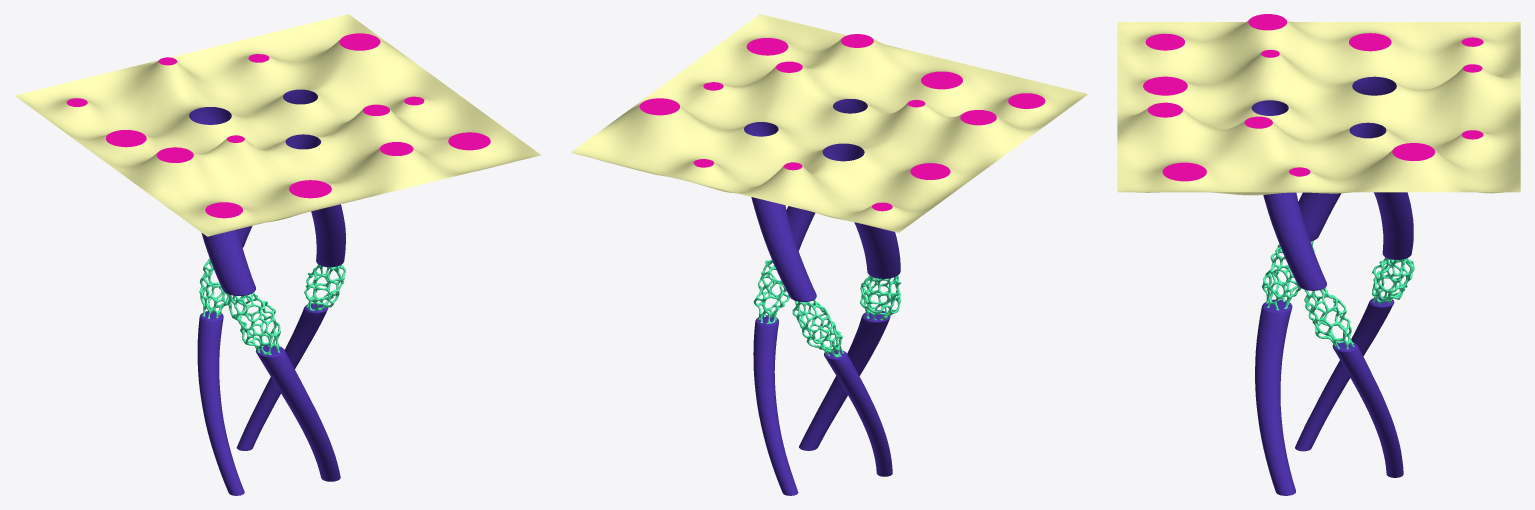
File: Roof_03_columns.fbx
3 renders of one model, left to right at view 1: azimuth 30°, elevation 25°; view 2: azimuth 150°, elevation 25°; view 3: azimuth 270°, elevation 25°, orthographic. The views are drawn at different scales.
Visible parts, largest first — view 1: Roof_v3_columns; view 2: Roof_v3_columns; view 3: Roof_v3_columns.
Boxes of the visible parts, x1=… form: Roof_v3_columns: x1=14, y1=14, x2=540, y2=495; Roof_v3_columns: x1=571, y1=14, x2=1087, y2=495; Roof_v3_columns: x1=1117, y1=14, x2=1520, y2=495.
Size of the model in its own units: 5 by 5.27 by 5.
